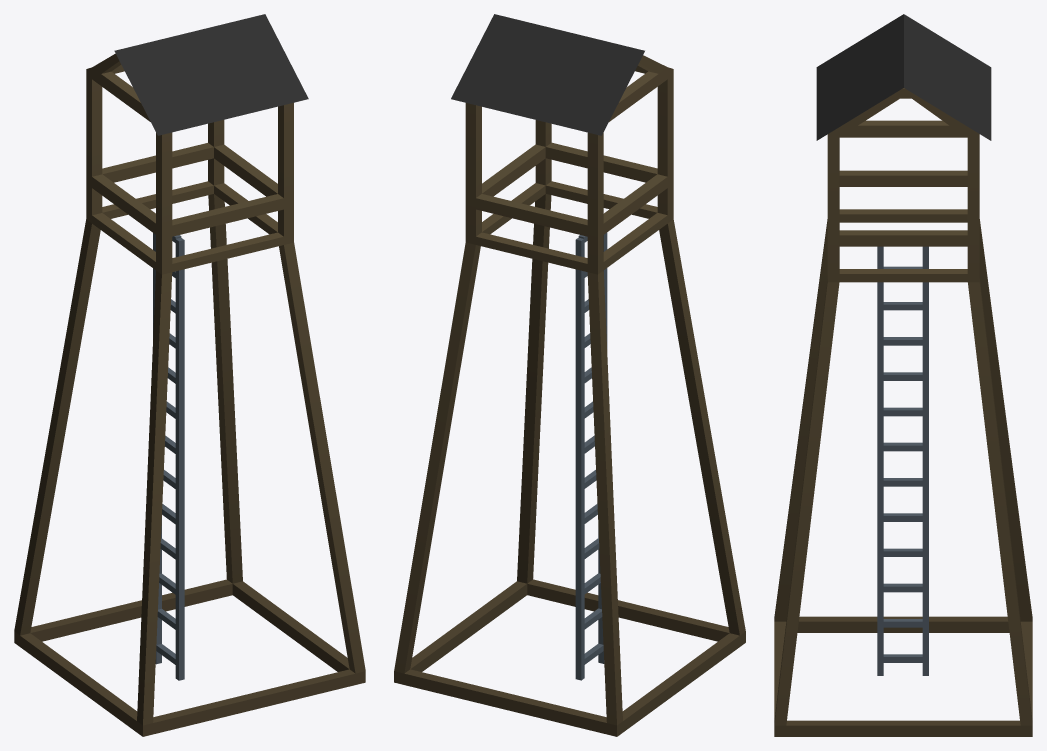
The model's file is watch tower.glb.
3 views of the same model, side by side, from view 1: azimuth 30°, elevation 25°; view 2: azimuth 150°, elevation 25°; view 3: azimuth 270°, elevation 25° (orthographic).
Parts seen in each view (by area): view 1: Carcas and ladder, Roof; view 2: Carcas and ladder, Roof; view 3: Carcas and ladder, Roof.
Part boxes in pixels (x1,y1,x2,y2): Carcas and ladder: (14, 53, 365, 736); Roof: (114, 14, 308, 135); Carcas and ladder: (394, 55, 745, 736); Roof: (451, 14, 644, 135); Carcas and ladder: (774, 88, 1032, 736); Roof: (816, 14, 991, 140).
Bounding box in the file's own units: 3.98 × 10.8 × 3.98.
